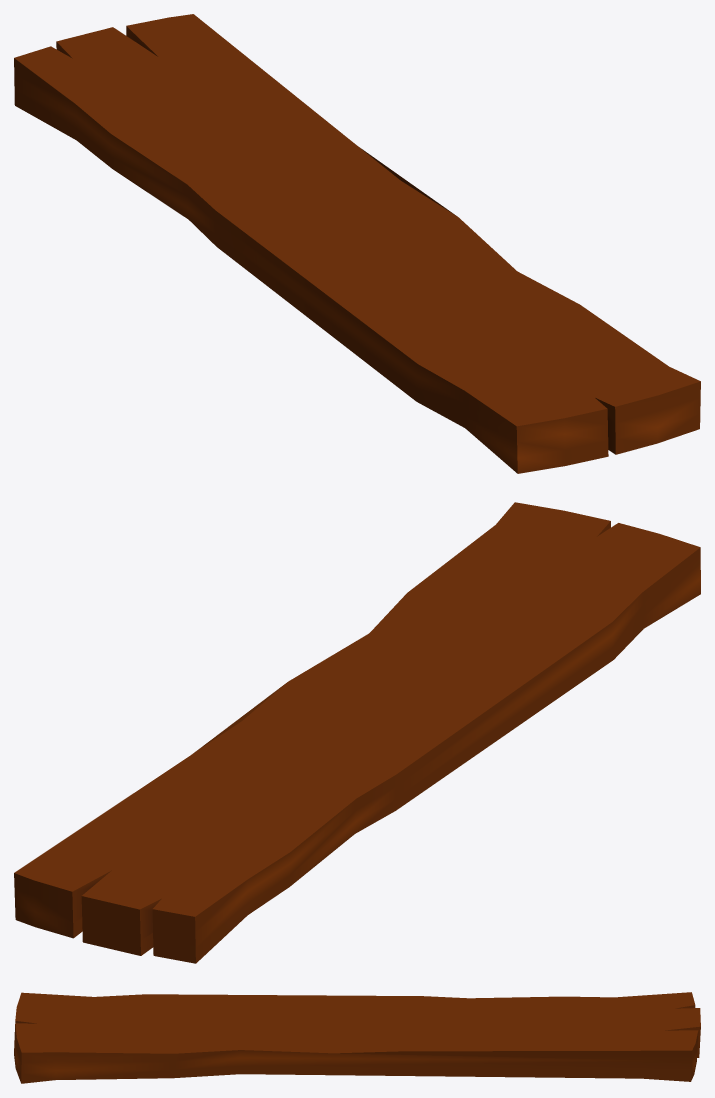
The model's file is Plank1_1.2.fbx.
3 renders of one model, top to bottom at view 1: azimuth 30°, elevation 25°; view 2: azimuth 150°, elevation 25°; view 3: azimuth 270°, elevation 25°, orthographic. The views are drawn at different scales.
Visible parts, largest first — view 1: Plank1; view 2: Plank1; view 3: Plank1.
Part boxes in pixels (x1=…): Plank1: x1=14, y1=14, x2=700, y2=473; Plank1: x1=14, y1=502, x2=700, y2=963; Plank1: x1=14, y1=992, x2=700, y2=1083.
Bounding box in the file's own units: 46.14 × 11.06 × 215.
